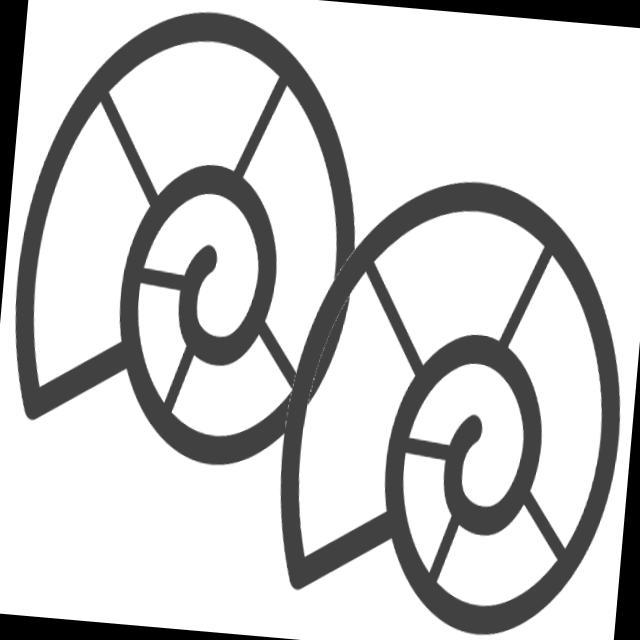fossil: (1, 1, 386, 492), (256, 149, 640, 640)
